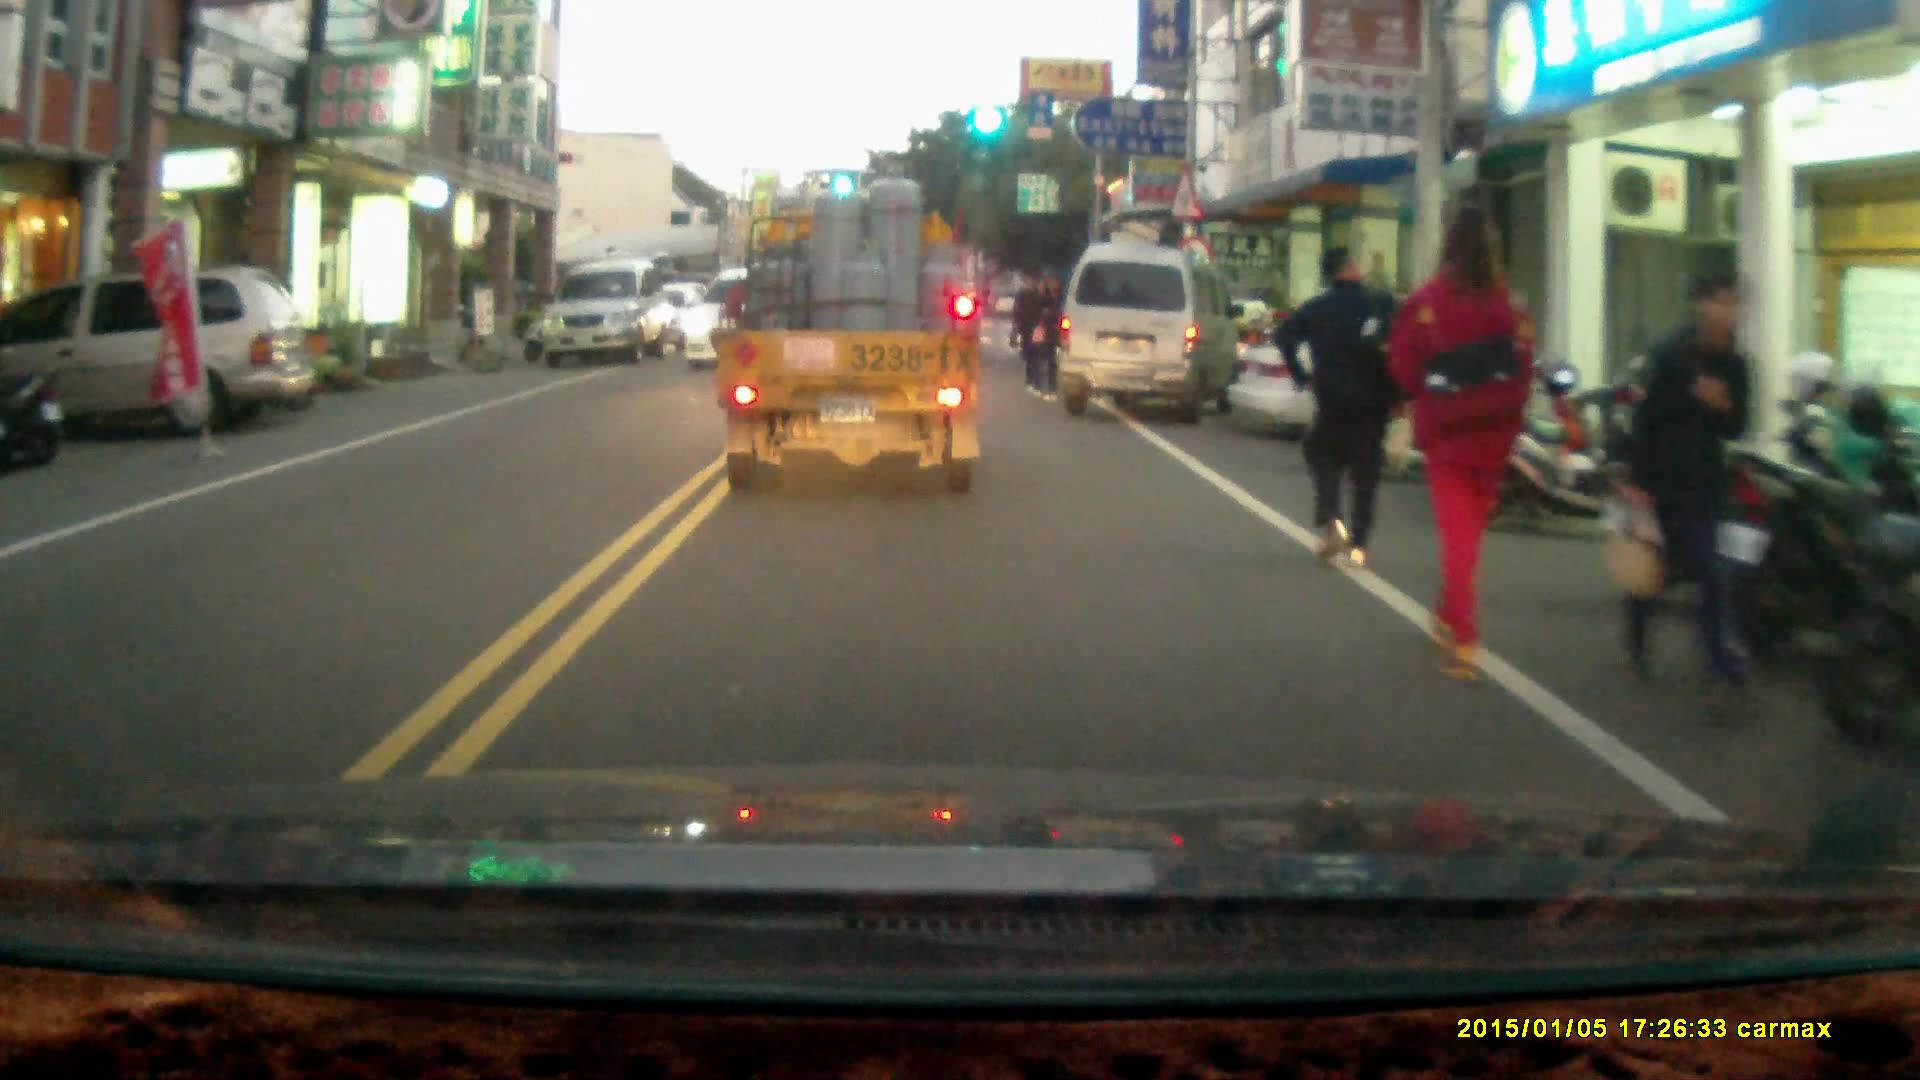pedestrian: (1390, 198, 1537, 679), (1613, 268, 1767, 723), (1276, 244, 1401, 566), (1030, 271, 1067, 401)
vehicle: (718, 169, 992, 507), (1235, 299, 1611, 455), (2, 267, 323, 446), (1061, 236, 1242, 415), (671, 261, 827, 370), (544, 258, 678, 366)
